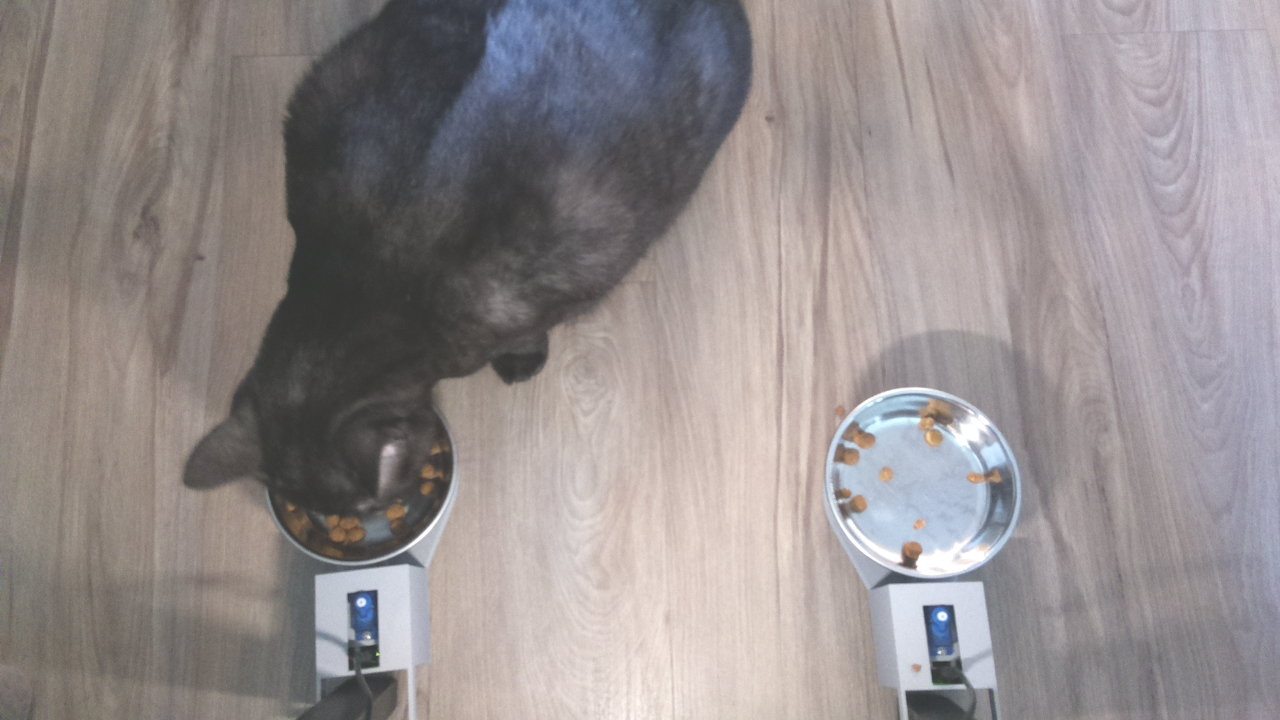open_bowl: (821, 383, 1022, 587)
saki_eating: (170, 308, 470, 577)
